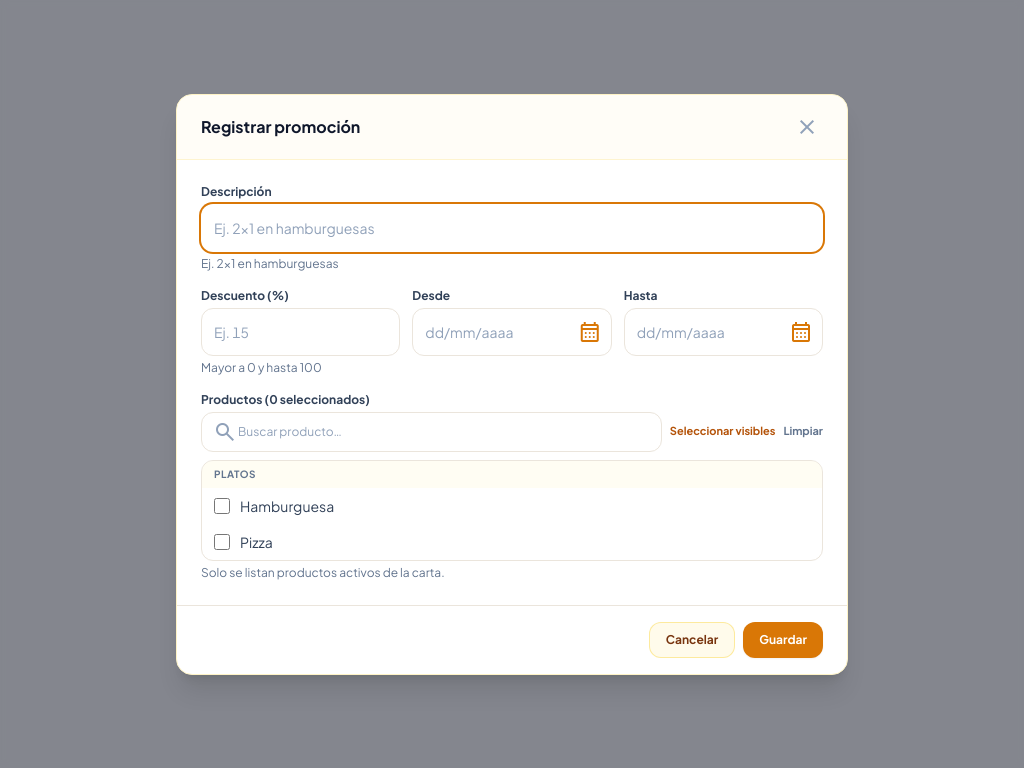
Test case: PromocionForm › rechaza un descuento fuera de rango y un rango de fechas inválido
The image size is (1024, 768).
Check: the checkbox labelled "Hamburguesa" is shown, box [214,498,230,514]
Type "Promo" into the field labelled "Descripción".
click(512, 228); type("Promo")  # box [201,204,823,252]
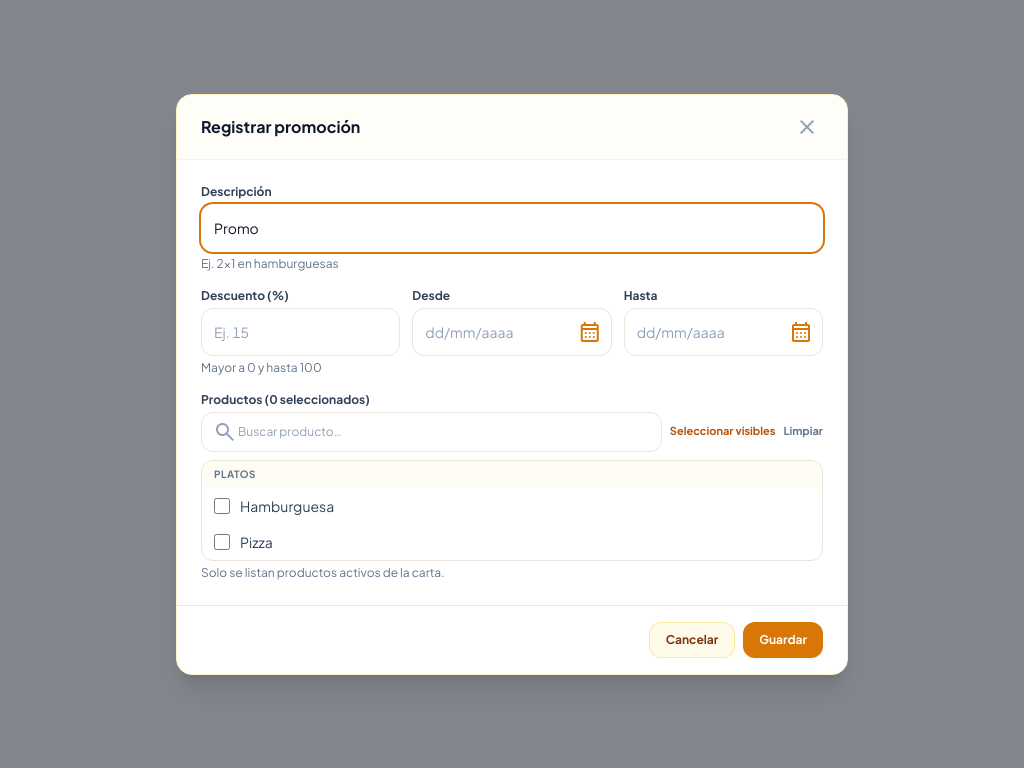
Type "150" into the number field labelled "Descuento (%)".
click(301, 332); type("150")  # box [201,308,400,356]
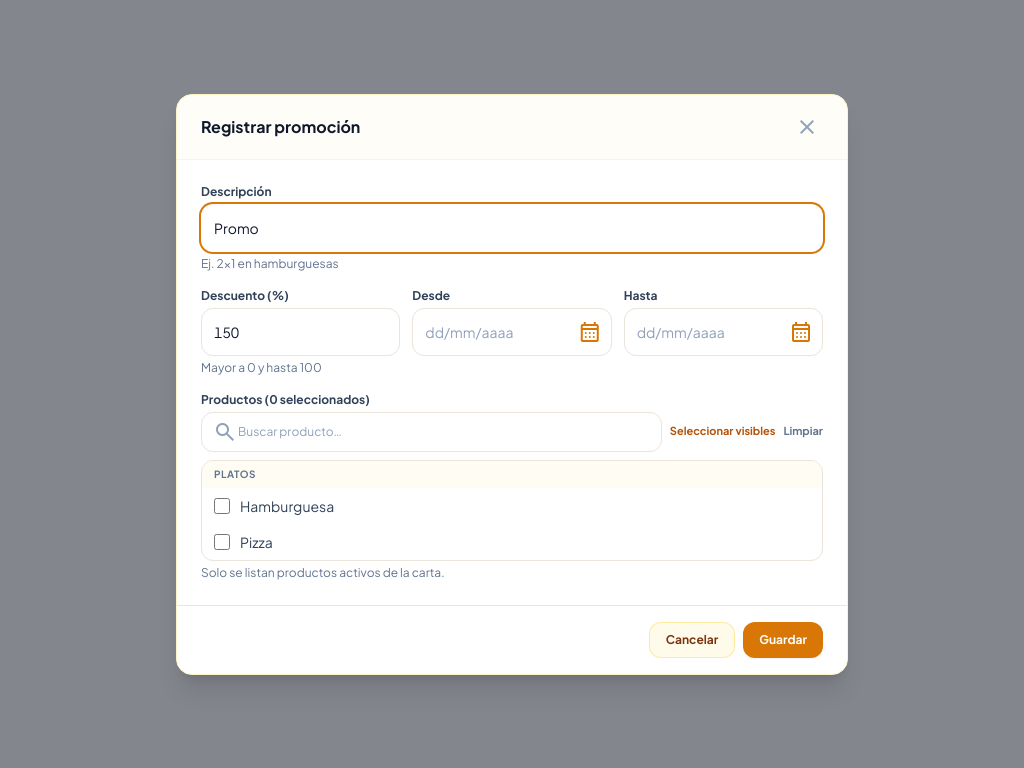
Type "10/12/2099" into the field labelled "Desde".
click(512, 332); type("10/12/2099")  # box [412,308,612,356]
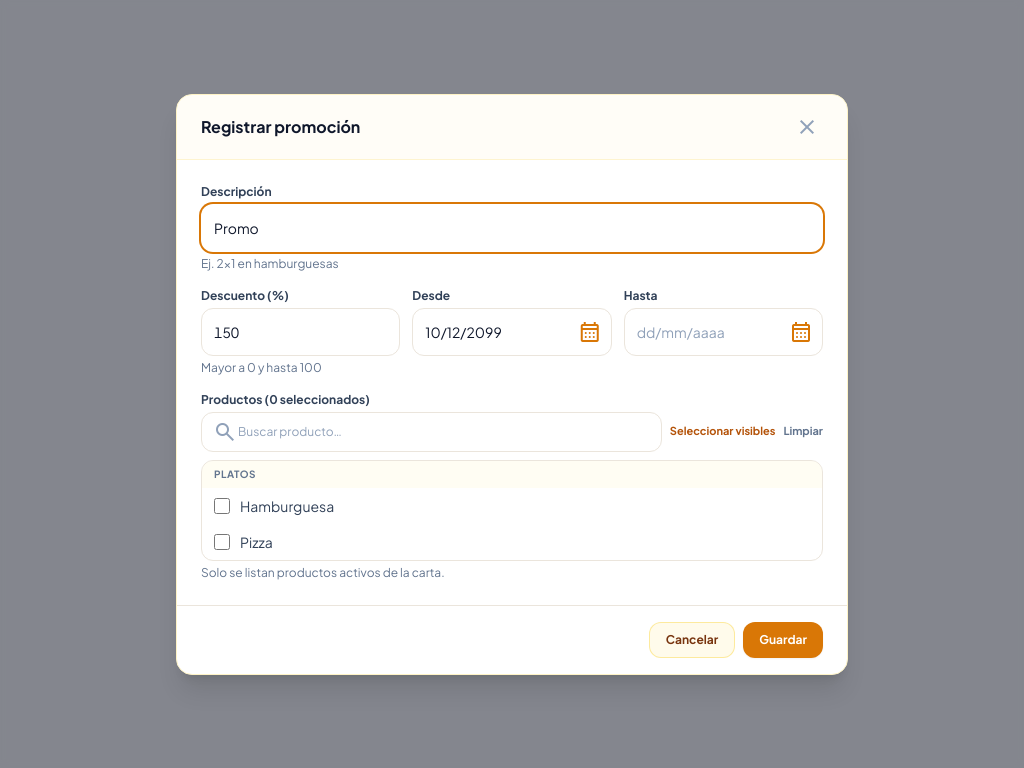
Type "01/12/2099" into the field labelled "Hasta".
click(723, 332); type("01/12/2099")  # box [624,308,823,356]
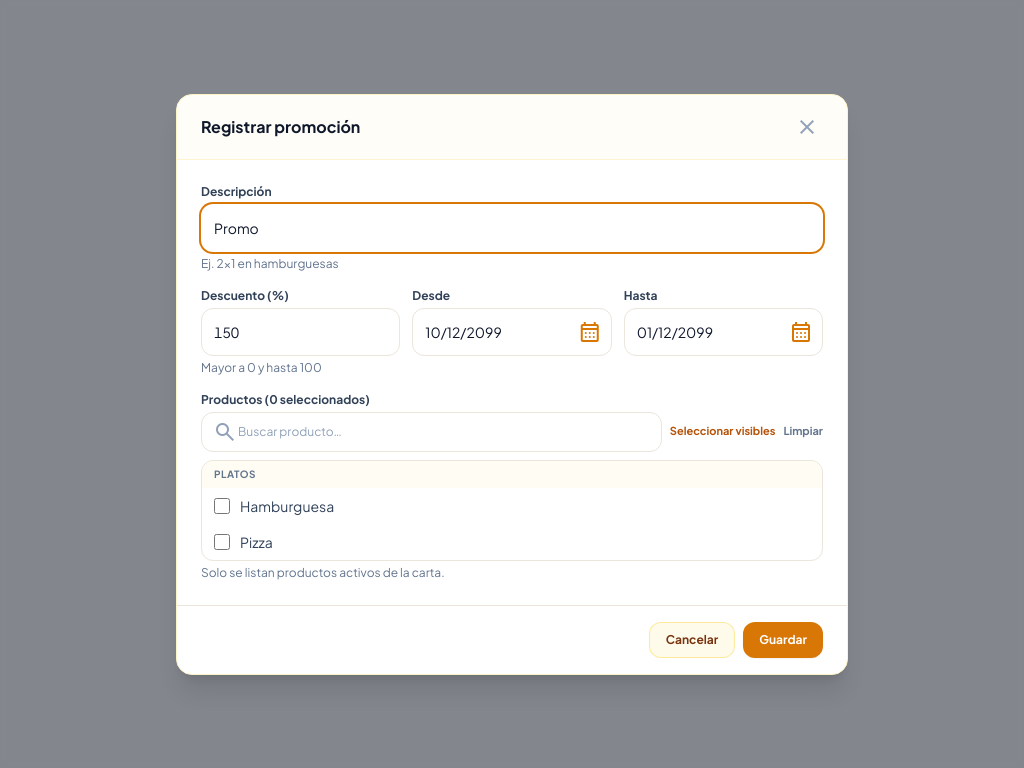
Click the checkbox labelled "Hamburguesa".
click(222, 506)  # box [214,498,230,514]
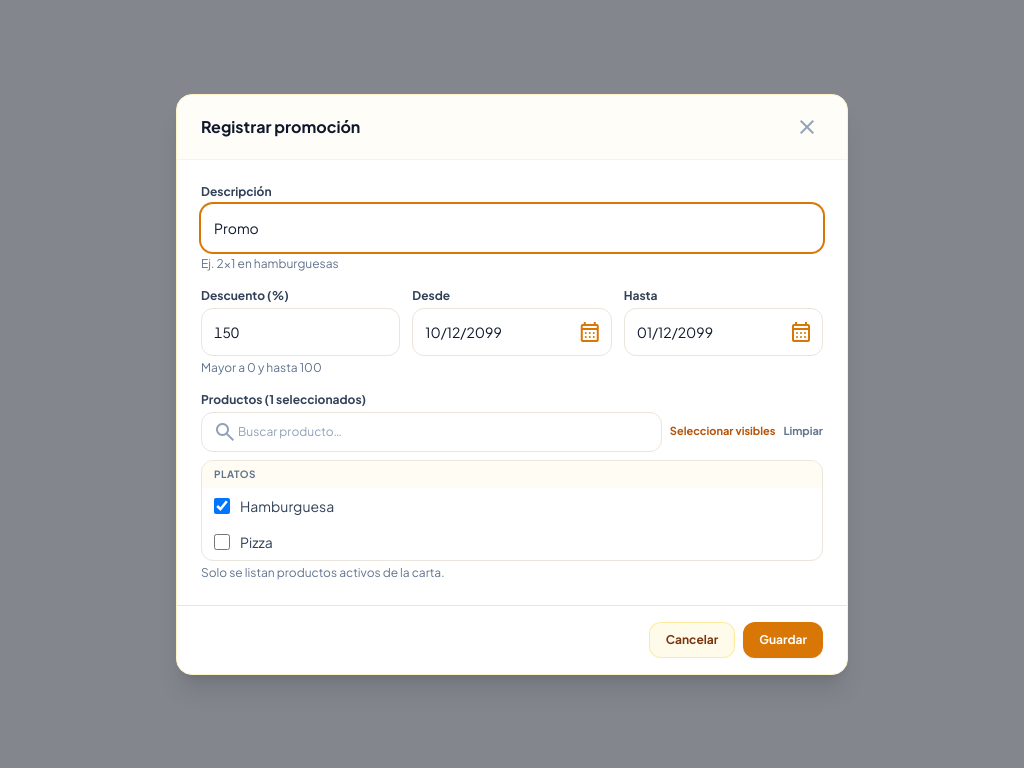
Click the button "Guardar".
click(783, 640)  # box [743,622,823,658]
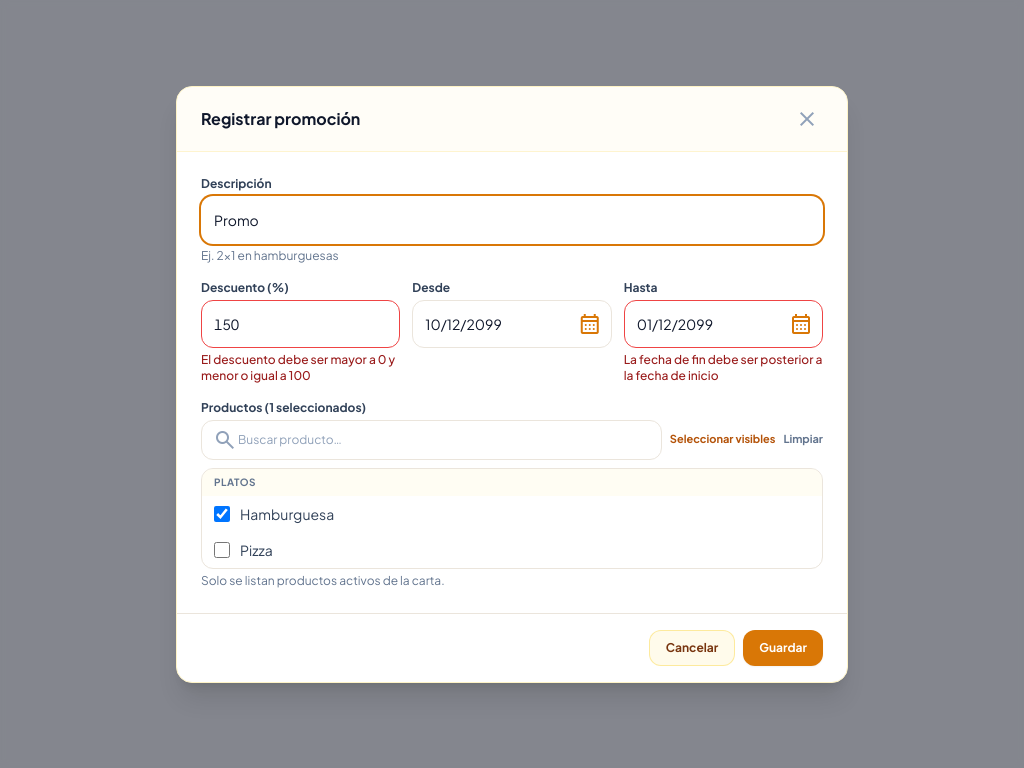
Check: the text "El descuento debe ser mayor a 0 y menor o igual a 100" is shown, box [201,352,400,384]
Check: the text "La fecha de fin debe ser posterior a la fecha de inicio" is shown, box [624,352,823,384]
